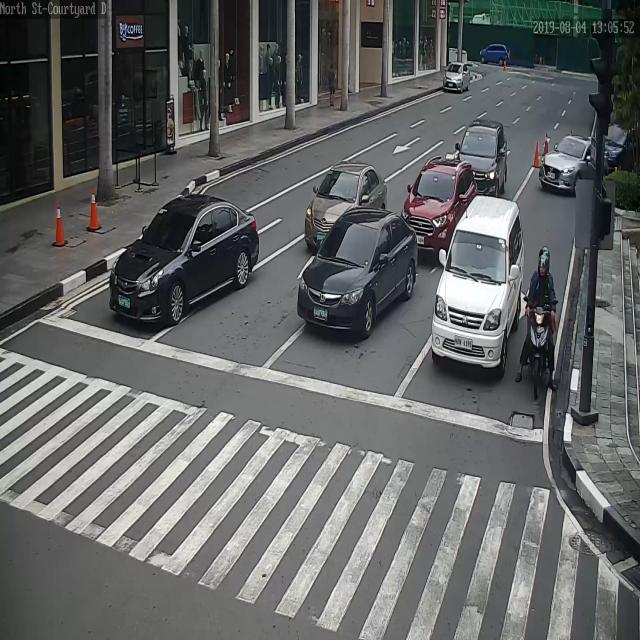car: (104, 193, 261, 325), (432, 195, 525, 371), (297, 209, 420, 338), (399, 156, 476, 259), (306, 162, 387, 245), (538, 134, 611, 194), (453, 125, 510, 194), (605, 122, 637, 172), (443, 64, 472, 94), (477, 43, 510, 67)
jeepney: (522, 248, 563, 373)
